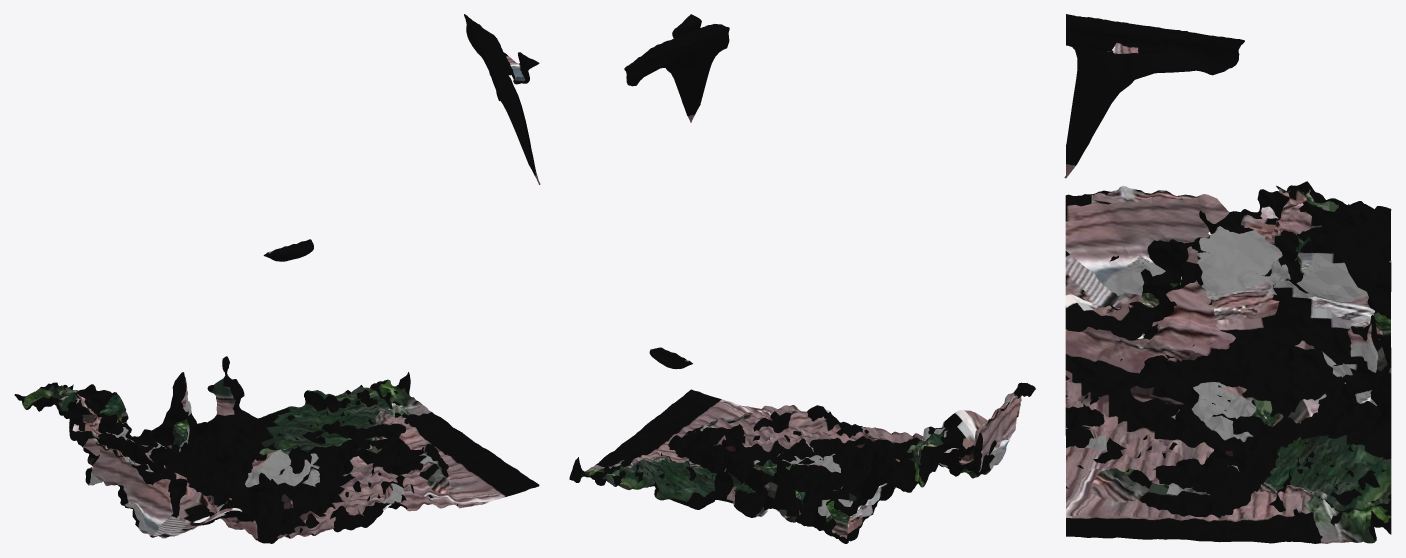
3 views of the same model, side by side, from view 1: azimuth 30°, elevation 25°; view 2: azimuth 150°, elevation 25°; view 3: azimuth 270°, elevation 25° (orthographic). The views are drawn at different scales.
Visible parts, largest first — view 1: node_191; view 2: node_191; view 3: node_191.
Part boxes in pixels (x1,y1,x2,y2): node_191: [14, 14, 540, 543]; node_191: [569, 14, 1035, 543]; node_191: [1064, 14, 1391, 543].
Bounding box in the file's own units: 9.03 × 9.52 × 5.53.
1 material, 1 textured.
